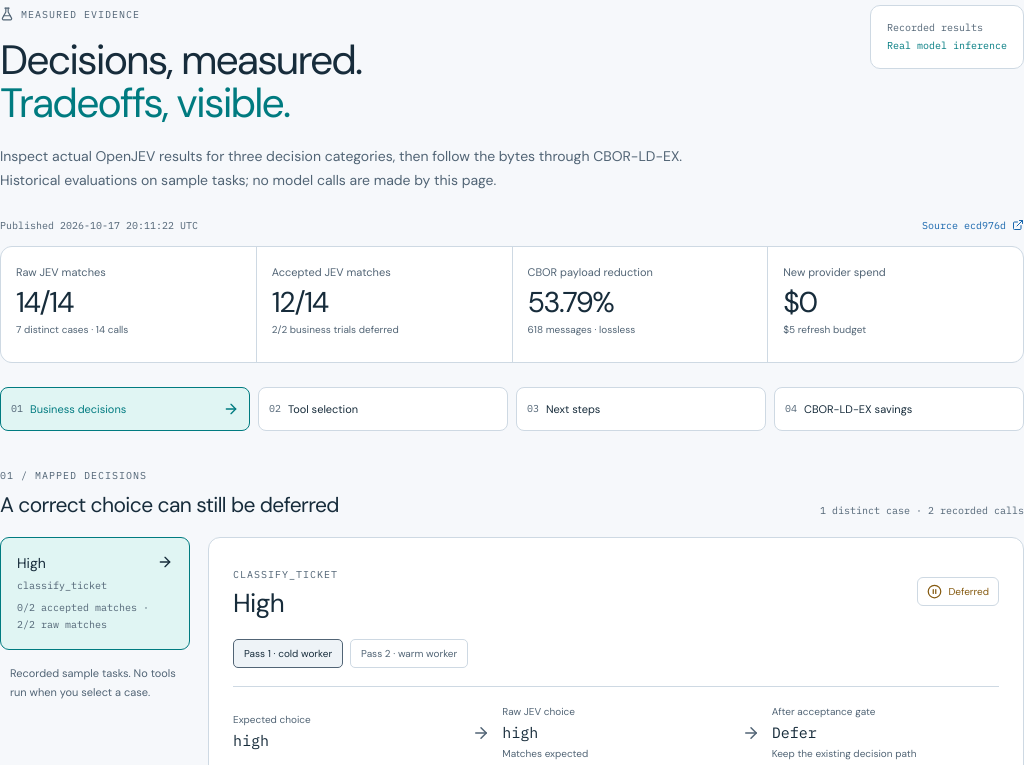
Test: measured benchmark workspace › shows all next-step outcomes alongside the model-free rule baseline
Expected: the navigation bar named "Benchmark categories" is shown, [0,387,1023,431]
Click the button "03 Next steps" at (641, 409), box [516,387,766,431]
(page scrolled)
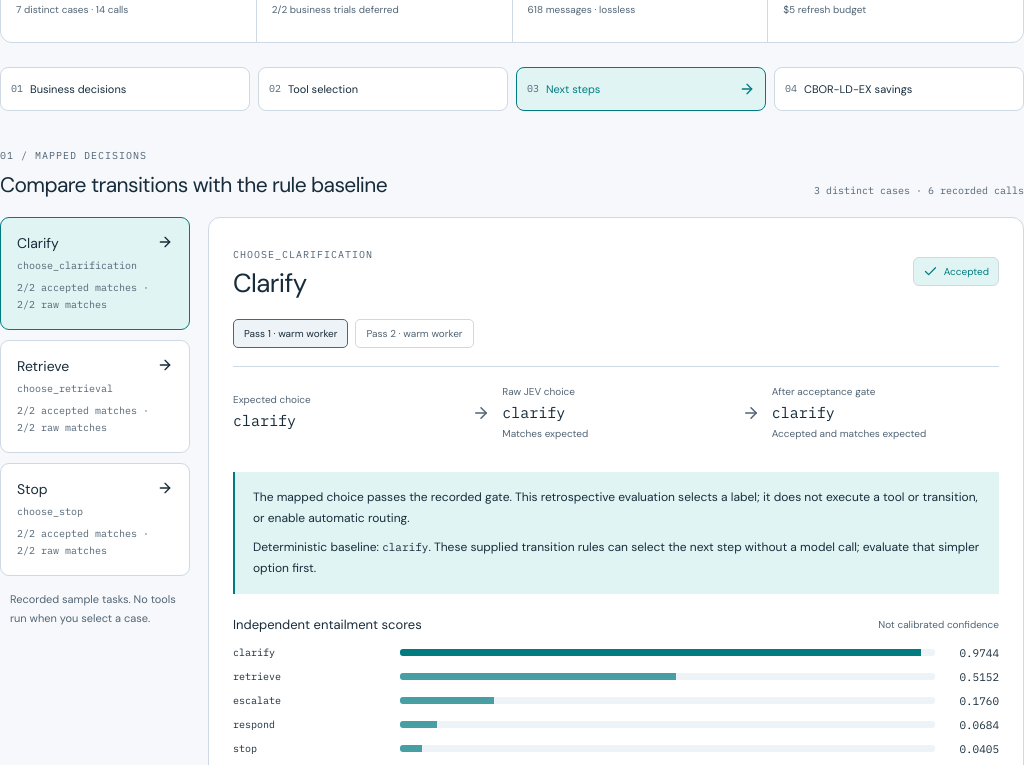
Click the button "retrieve" at (95, 396), box [0,340,190,453]
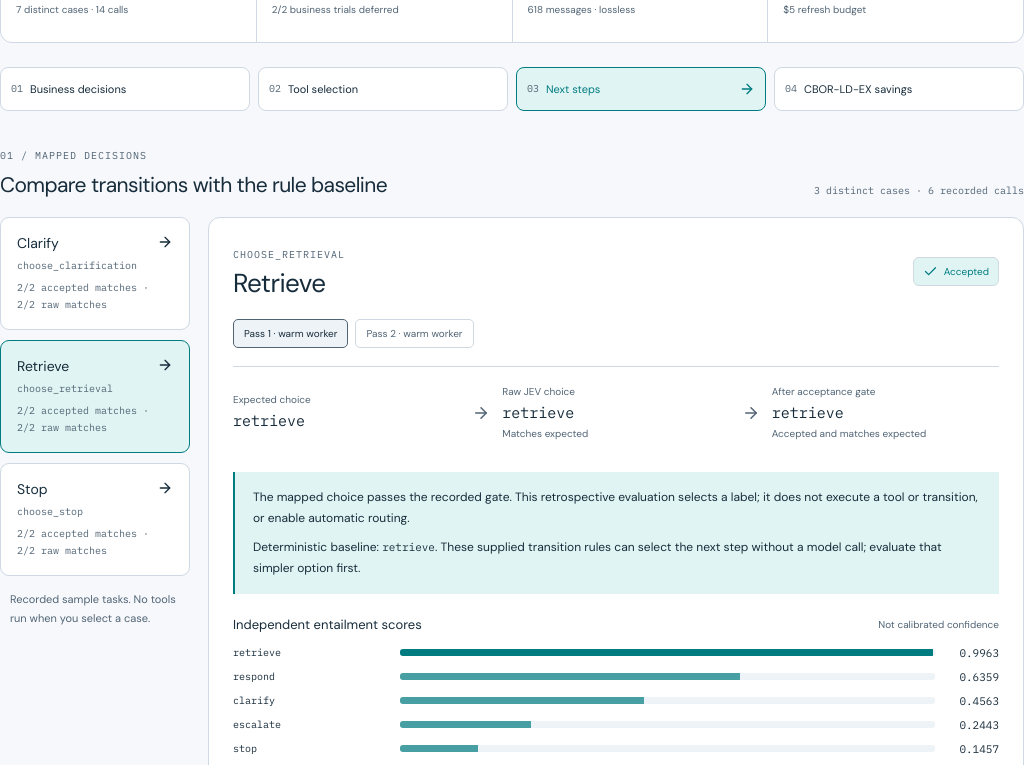
Expected: the text "without a model call" is shown, [253,539,942,576]
Expected: the text "retrieve" below "After acceptance gate" is shown, [772,403,844,422]
Expected: the text "Deterministic baseline: retrieve." is shown, [253,539,437,555]
Click the button "clarify" at (95, 274), box [0,217,190,330]
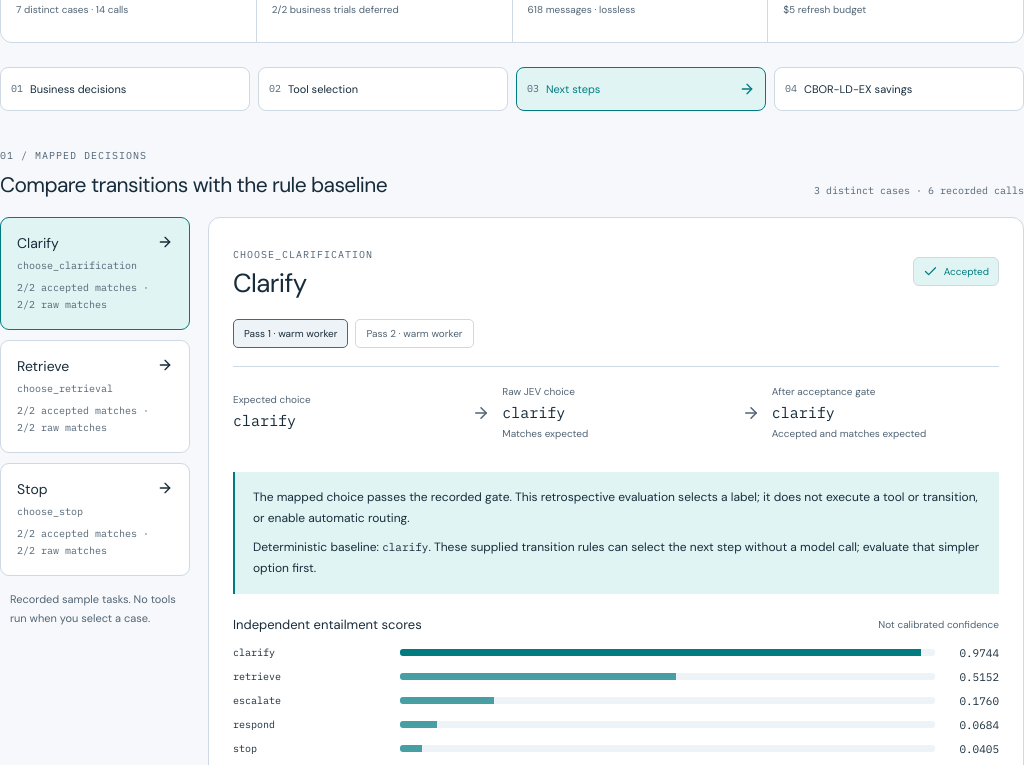
Expected: the text "without a model call" is shown, [253,539,979,576]
Expected: the text "clarify" below "After acceptance gate" is shown, [772,403,835,422]
Expected: the text "Deterministic baseline: clarify." is shown, [253,539,431,555]
Click the button "stop choose_stop 2/2 accepted matches · 2/2 raw matches" at (95, 520), box [0,463,190,576]
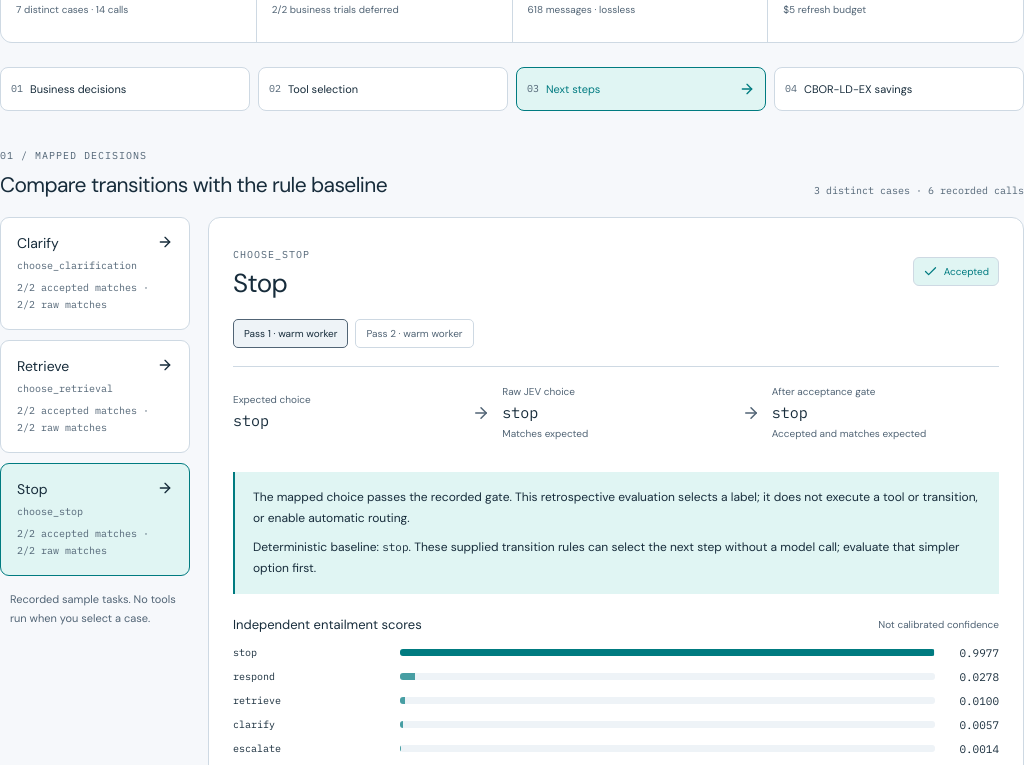
Expected: the text "without a model call" is shown, [253,539,960,576]
Expected: the text "stop" below "After acceptance gate" is shown, [772,403,808,422]
Expected: the text "Deterministic baseline: stop." is shown, [253,539,411,555]
